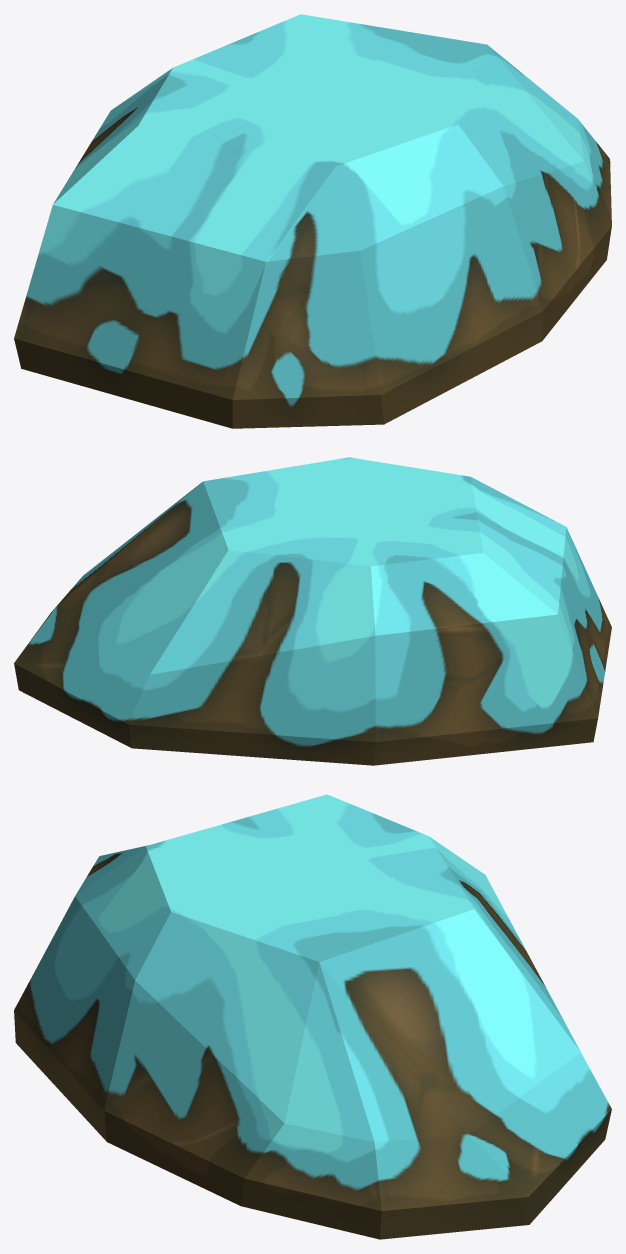
Rendered from SmallRock1.FBX.
3 renders of one model, top to bottom at view 1: azimuth 30°, elevation 25°; view 2: azimuth 150°, elevation 25°; view 3: azimuth 270°, elevation 25°, orthographic. The views are drawn at different scales.
Visible parts, largest first — view 1: Rock1; view 2: Rock1; view 3: Rock1.
Part boxes in pixels (bbox=[...]): Rock1: bbox=[14, 14, 611, 428]; Rock1: bbox=[14, 457, 611, 765]; Rock1: bbox=[14, 794, 611, 1239].
Size of the model in its own units: 49.24 by 15.36 by 40.57.
Materials: 1 (1 with a texture image).
